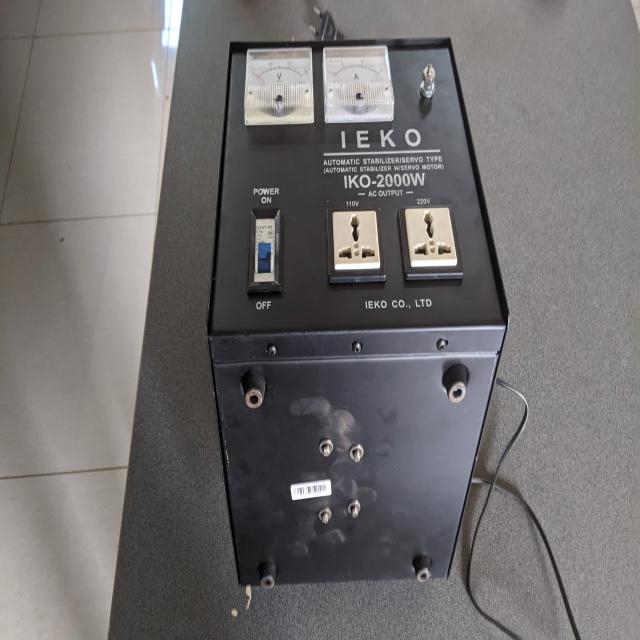AC POWER Stabilizer: (203, 25, 512, 598)
